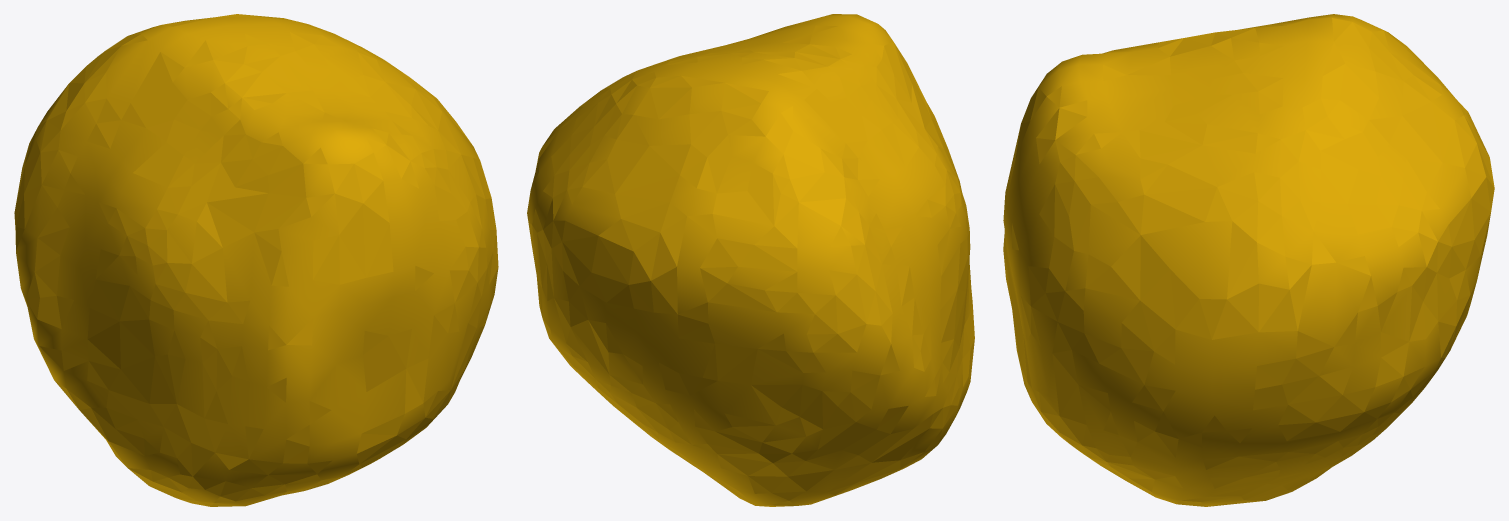
File: yellow_rock.dae
3 views of the same model, side by side, from view 1: azimuth 30°, elevation 25°; view 2: azimuth 150°, elevation 25°; view 3: azimuth 270°, elevation 25° (orthographic). The views are drawn at different scales.
Parts seen in each view (by area): view 1: Rock_048_Cube_063; view 2: Rock_048_Cube_063; view 3: Rock_048_Cube_063.
Boxes of the visible parts, x1,y1,x2,y2 form: Rock_048_Cube_063: (14, 14, 498, 506); Rock_048_Cube_063: (527, 14, 974, 506); Rock_048_Cube_063: (1003, 14, 1494, 506).
Bounding box in the file's own units: 1.02 × 1.02 × 1.05.
